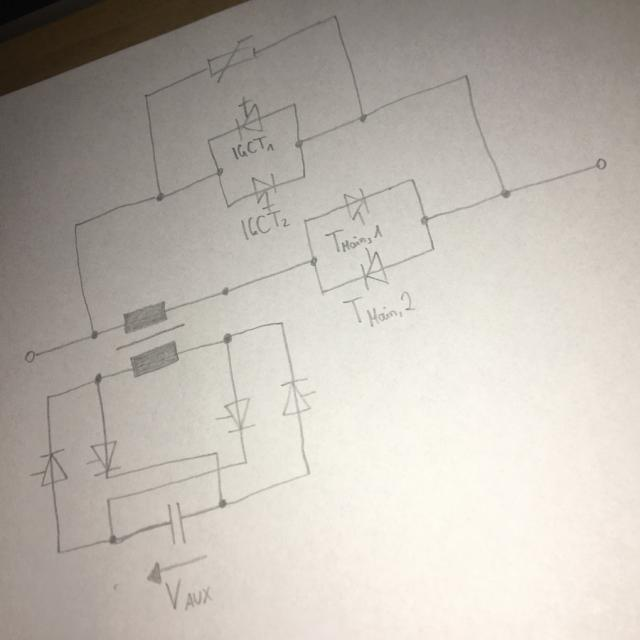capacitor: (164, 499, 189, 545)
crossover: (214, 464, 222, 473)
junction: (107, 533, 120, 546), (498, 186, 512, 198), (221, 331, 233, 345), (92, 370, 102, 386), (216, 497, 228, 509), (153, 191, 166, 202), (419, 214, 430, 225), (293, 138, 304, 148), (89, 328, 99, 339), (308, 255, 318, 266), (358, 112, 368, 122), (215, 166, 224, 177), (318, 287, 328, 296), (54, 546, 63, 555), (224, 201, 232, 211), (276, 319, 286, 327), (428, 244, 436, 252), (212, 449, 220, 457), (304, 468, 312, 476), (142, 91, 150, 99), (291, 100, 298, 109), (462, 72, 469, 80), (300, 172, 307, 180), (301, 216, 308, 224), (44, 392, 51, 400), (241, 458, 249, 465), (330, 12, 338, 19), (104, 495, 111, 502), (408, 177, 416, 183), (72, 221, 78, 228), (206, 137, 211, 144), (104, 474, 109, 480)
terminal: (22, 348, 38, 364), (594, 156, 608, 171)
text: (342, 289, 416, 327), (164, 576, 212, 612), (323, 223, 382, 252), (239, 209, 290, 240), (230, 134, 274, 160)
thyristor: (277, 376, 313, 415), (221, 395, 255, 433), (234, 97, 264, 140), (358, 251, 389, 290), (38, 447, 68, 486), (89, 439, 120, 475), (250, 171, 277, 209), (342, 187, 370, 220)
transformer: (114, 299, 185, 378)
